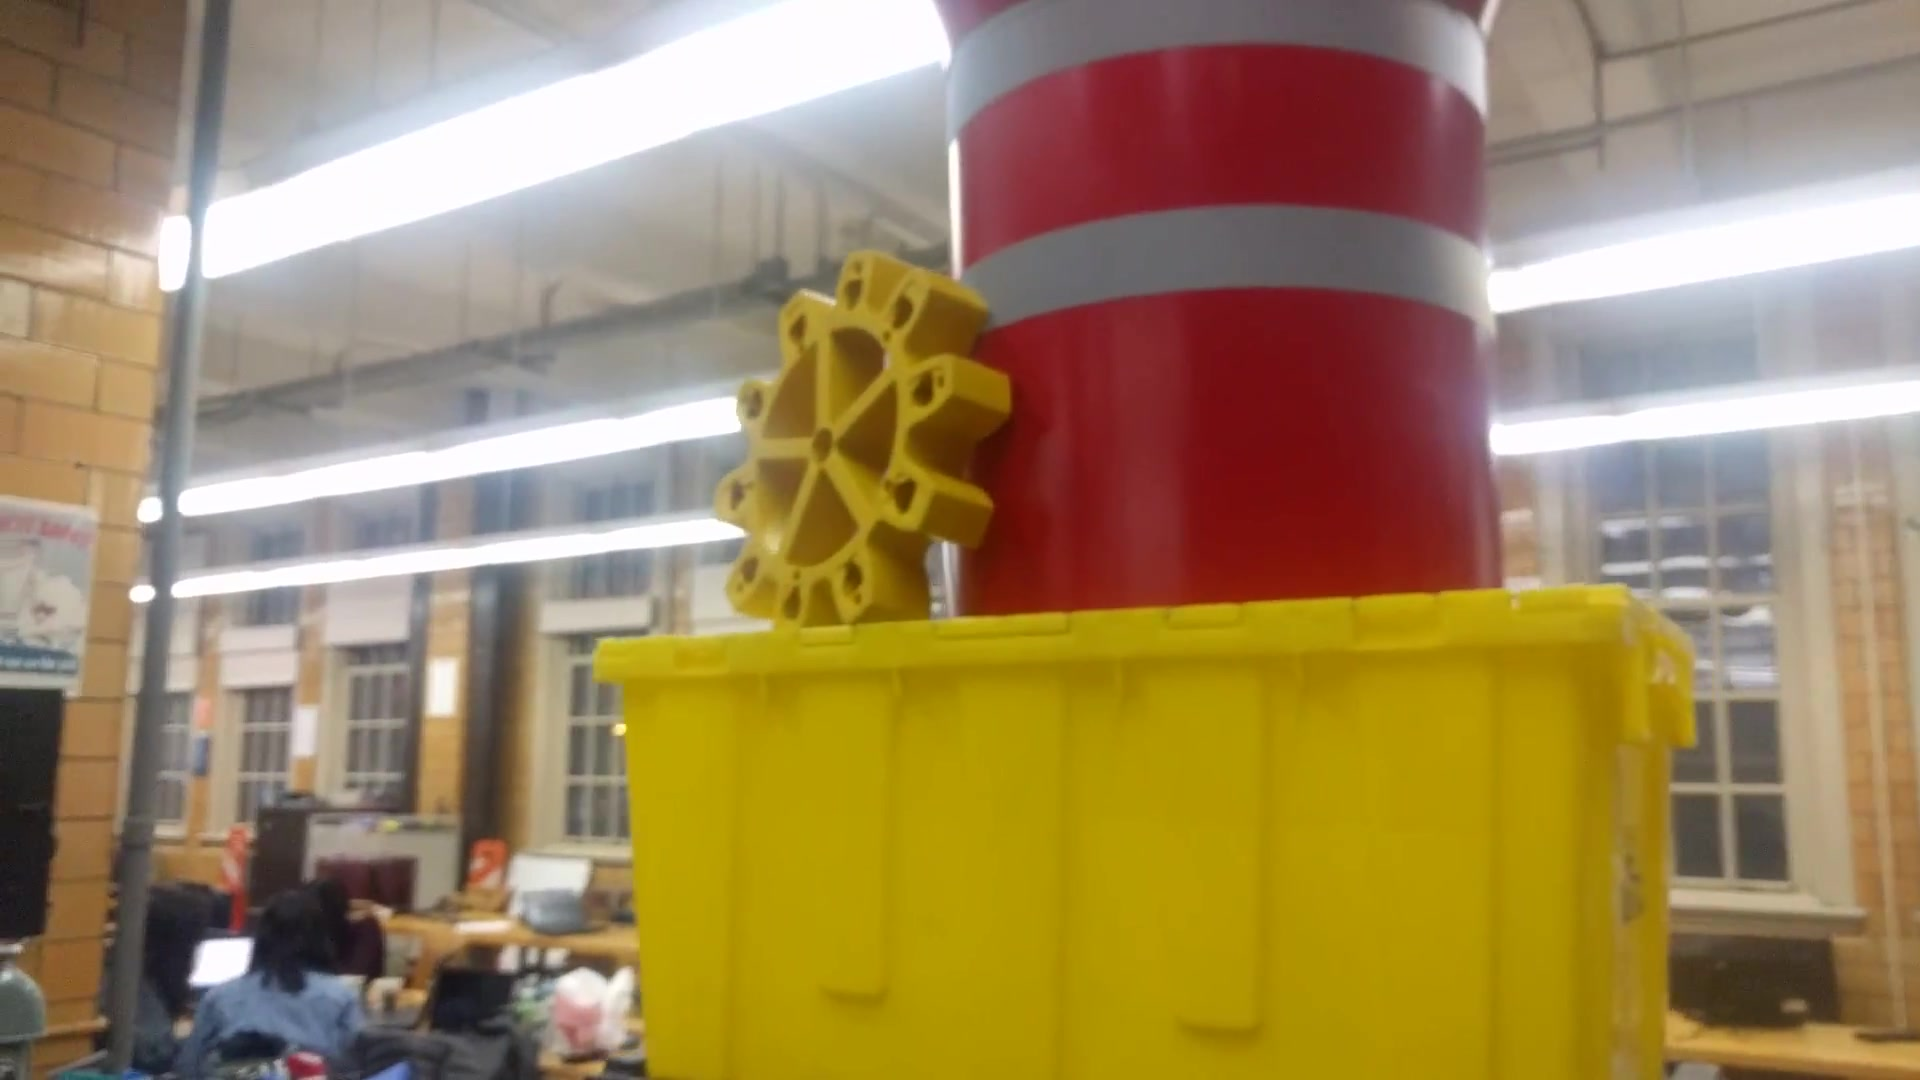gear: (715, 244, 1014, 636)
